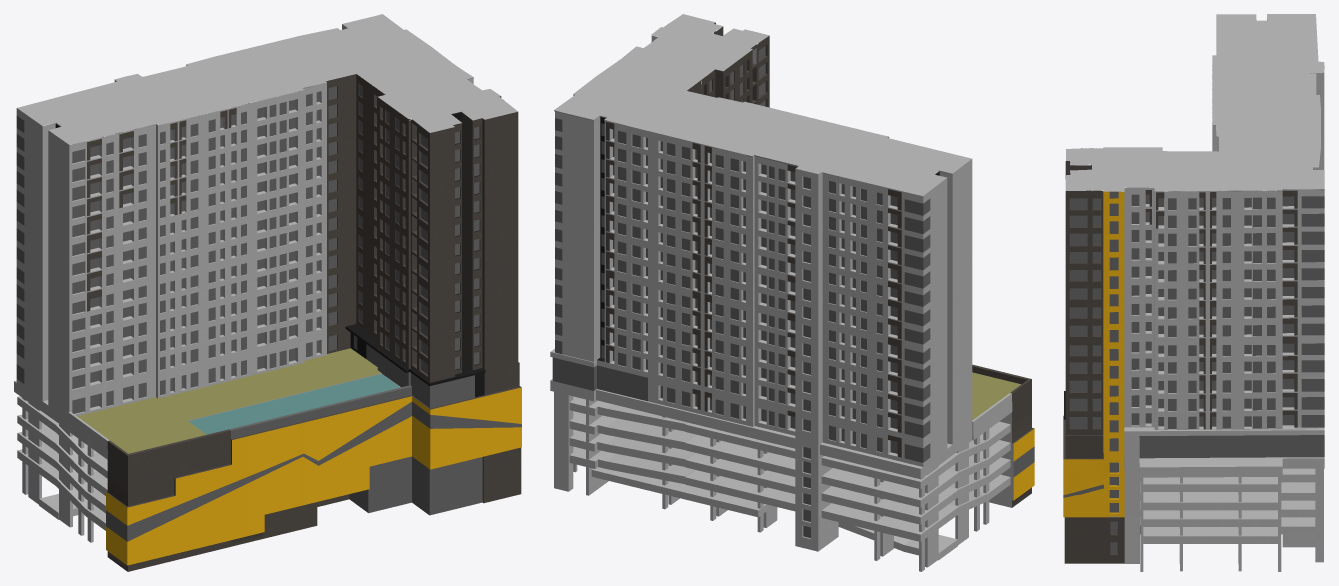
Rendered from final_cut14.glb.
3 views of the same model, side by side, from view 1: azimuth 30°, elevation 25°; view 2: azimuth 150°, elevation 25°; view 3: azimuth 270°, elevation 25° (orthographic). The views are drawn at different scales.
Parts seen in each view (by area): view 1: DEMO45:pCube4 (×8); view 2: DEMO45:pCube4 (×8); view 3: DEMO45:pCube4 (×6).
Boxes of the visible parts, x1,y1,x2,y2 form: DEMO45:pCube4 (×8): (14,14,521,571); DEMO45:pCube4 (×8): (550,14,1034,571); DEMO45:pCube4 (×6): (1063,14,1324,571).
Size of the model in its own units: 4.69 by 4.37 by 2.77.
Materials: 11 (11 with a texture image).
